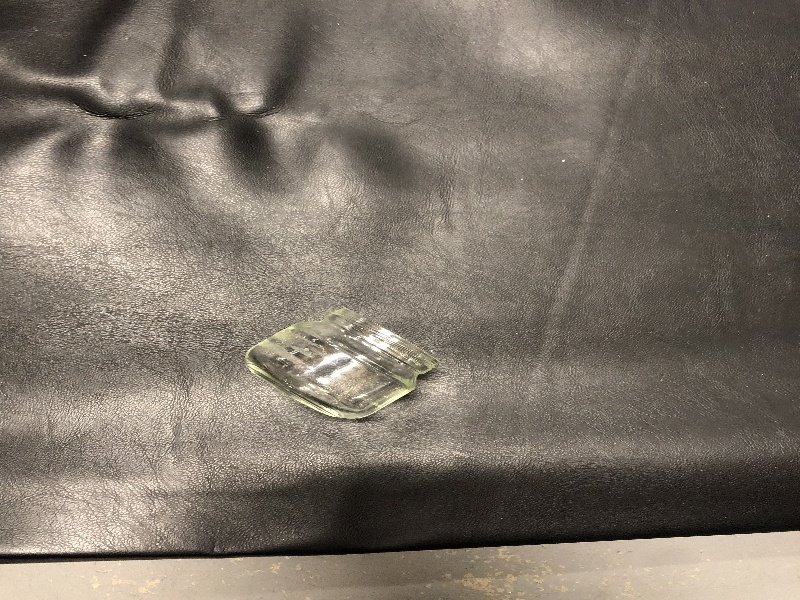glass: (240, 291, 448, 432)
